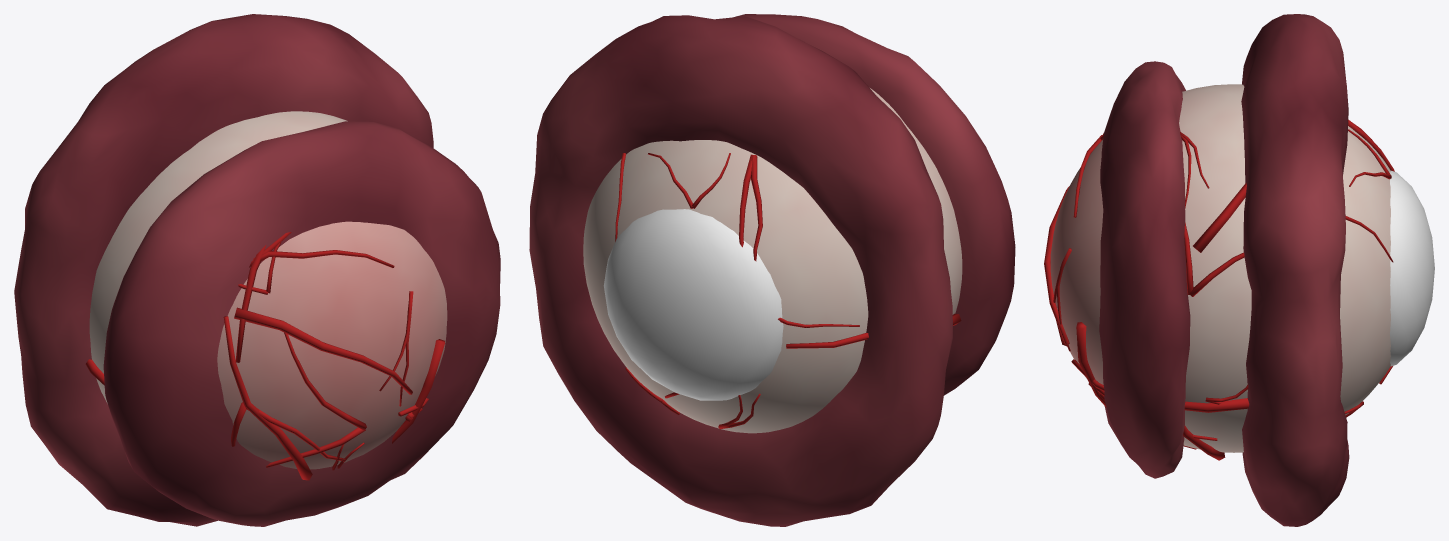
Rendered from wall_of_flesh_eye.glb.
3 views of the same model, side by side, from view 1: azimuth 30°, elevation 25°; view 2: azimuth 150°, elevation 25°; view 3: azimuth 270°, elevation 25° (orthographic). The views are drawn at different scales.
Visible parts, largest first — view 1: wall_of_flesh_eye; view 2: wall_of_flesh_eye; view 3: wall_of_flesh_eye.
Part boxes in pixels (left/top/right/bottom): wall_of_flesh_eye: left=14, top=14, right=500, bottom=526; wall_of_flesh_eye: left=529, top=14, right=1015, bottom=526; wall_of_flesh_eye: left=1044, top=14, right=1434, bottom=526.
Size of the model in its own units: 3.49 by 3.96 by 2.97.
